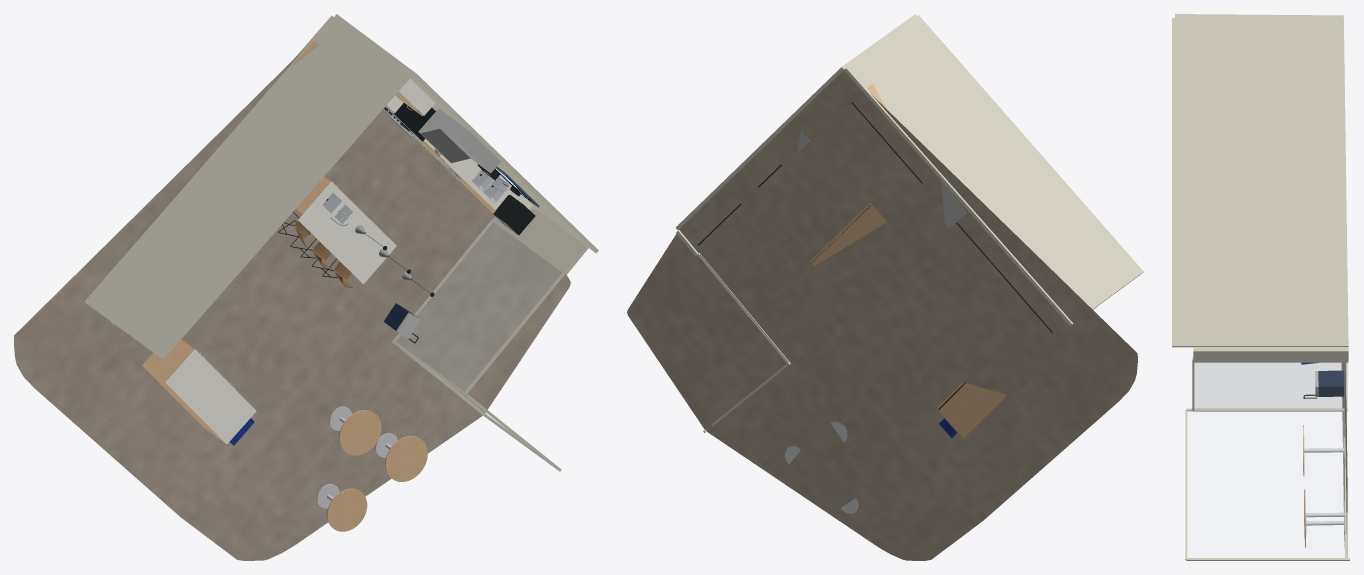
Rendered from kitchen_semantic.glb.
The picture shows the model from 3 angles, left to right: view 1: azimuth 30°, elevation 25°; view 2: azimuth 150°, elevation 25°; view 3: azimuth 270°, elevation 25°; orthographic projection. The views are drawn at different scales.
Visible parts, largest first — view 1: node_0298, node_0535, node_0536, node_0067, node_0534, node_0541, node_0029, node_0287, node_0085, node_0290, node_0296, node_0297 (+3 smaller); view 2: node_0298, node_0535, node_0068, node_0050, node_0534; view 3: node_0534, node_0542, node_0536, node_0541, node_0276, node_0298, node_0535, node_0544, node_0543, node_0546, node_0538.
Boxes of the visible parts, bbox=[...] form: node_0298: bbox=[14, 47, 570, 560]; node_0535: bbox=[84, 15, 412, 359]; node_0536: bbox=[395, 222, 561, 390]; node_0067: bbox=[165, 349, 256, 443]; node_0534: bbox=[334, 14, 598, 253]; node_0541: bbox=[493, 206, 588, 274]; node_0029: bbox=[324, 226, 381, 284]; node_0287: bbox=[385, 435, 427, 481]; node_0085: bbox=[339, 410, 381, 455]; node_0290: bbox=[327, 488, 367, 531]; node_0296: bbox=[440, 117, 500, 173]; node_0297: bbox=[418, 108, 470, 162]; node_0298: bbox=[627, 69, 1137, 560]; node_0535: bbox=[844, 15, 1143, 326]; node_0068: bbox=[937, 382, 1006, 438]; node_0050: bbox=[810, 203, 886, 266]; node_0534: bbox=[675, 14, 916, 229]; node_0534: bbox=[1172, 17, 1348, 347]; node_0542: bbox=[1187, 411, 1349, 557]; node_0536: bbox=[1194, 363, 1347, 409]; node_0541: bbox=[1193, 347, 1348, 362]; node_0276: bbox=[1318, 370, 1344, 396]; node_0298: bbox=[1341, 355, 1347, 557]; node_0535: bbox=[1175, 14, 1343, 17]; node_0544: bbox=[1186, 558, 1349, 560]; node_0543: bbox=[1186, 408, 1347, 411]; node_0546: bbox=[1185, 409, 1187, 559]; node_0538: bbox=[1193, 410, 1347, 411].
Bounding box in the file's own units: 12.48 × 11.26 × 3.23.
56 materials, 28 textured.
